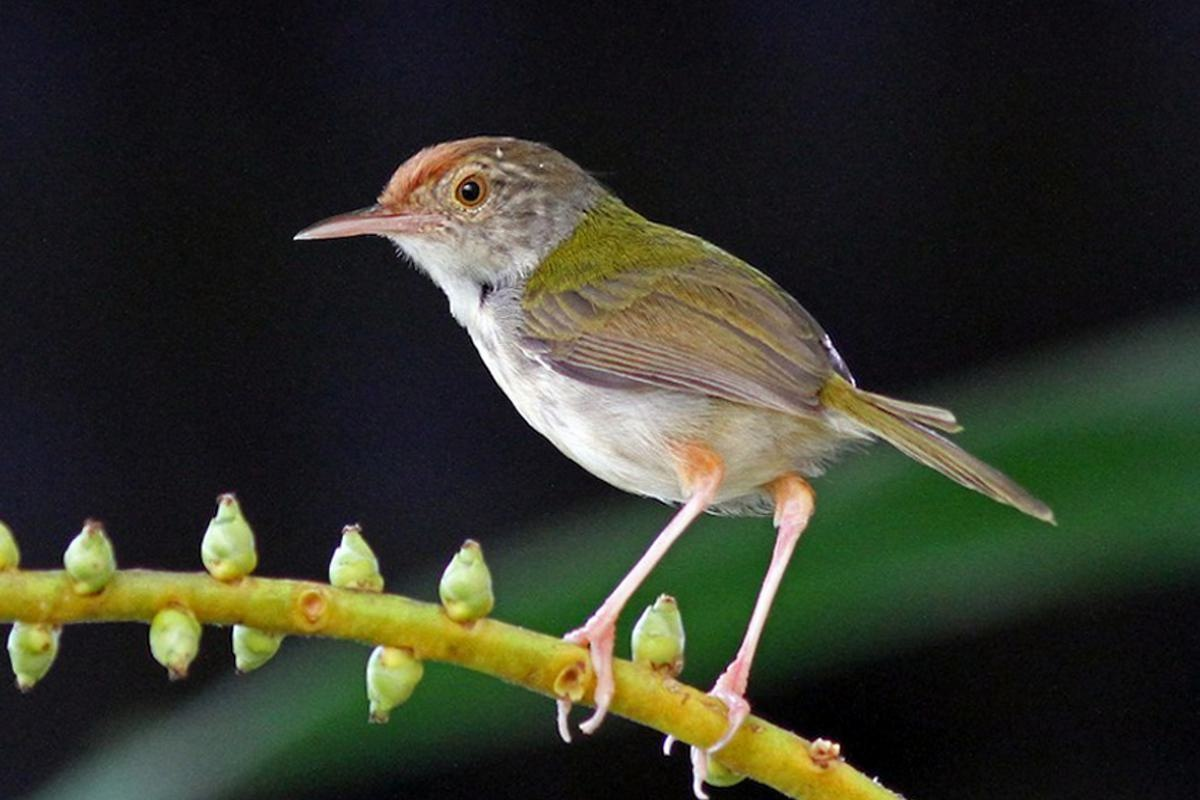tailorbird: (274, 118, 1019, 706)
